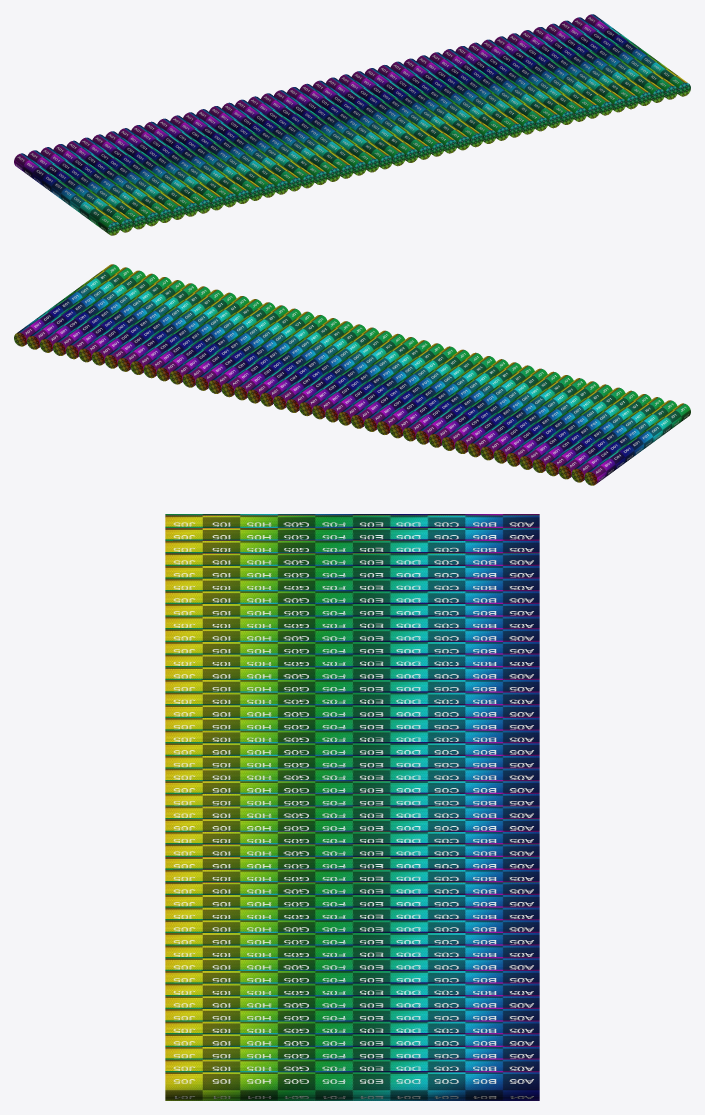
The model's file is bidge_body.fbx.
3 renders of one model, top to bottom at view 1: azimuth 30°, elevation 25°; view 2: azimuth 150°, elevation 25°; view 3: azimuth 270°, elevation 25°, orthographic. The views are drawn at different scales.
Parts seen in each view (by area): view 1: bidge; view 2: bidge; view 3: bidge.
Part boxes in pixels (box(x1,y1,x2,y2)): bidge: box(14, 14, 690, 235); bidge: box(14, 264, 690, 485); bidge: box(165, 514, 539, 1100).
Size of the model in its own units: 5400 by 120 by 1500.
